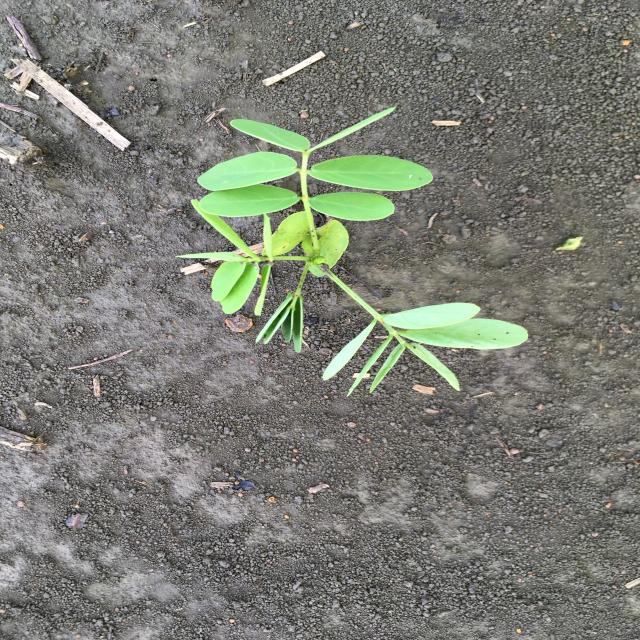Sicklepod: (172, 102, 534, 399)
